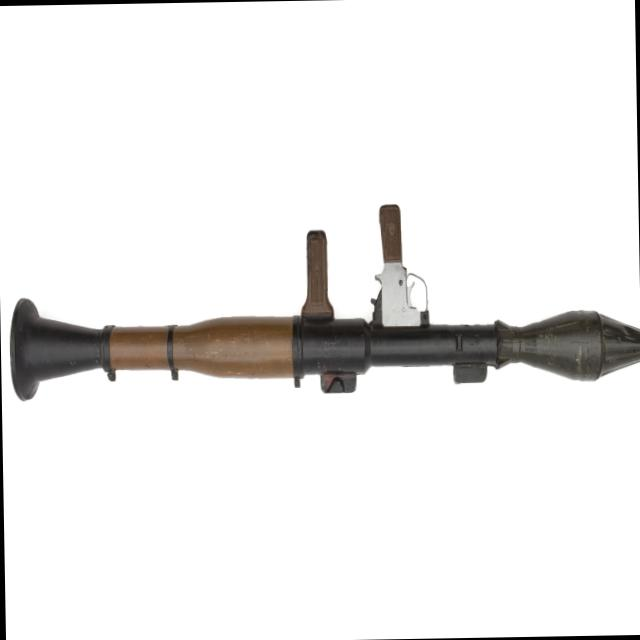Gun: (0, 185, 640, 520)
